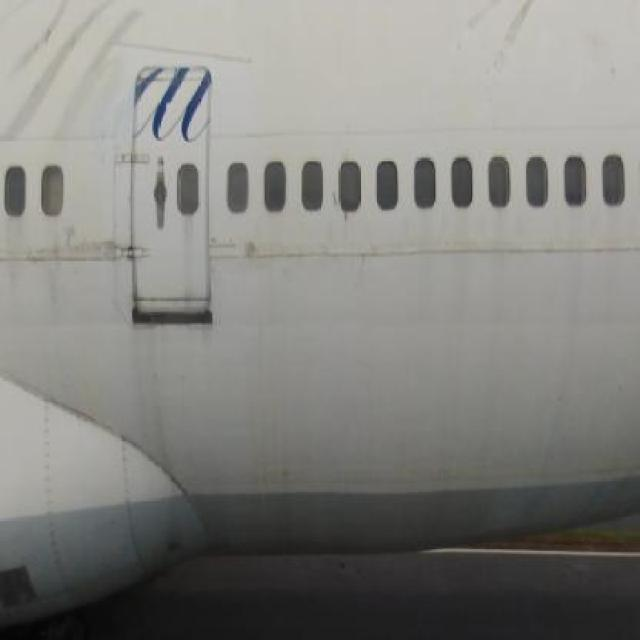Scartch: (10, 1, 141, 145), (453, 1, 547, 87), (57, 232, 152, 268)
